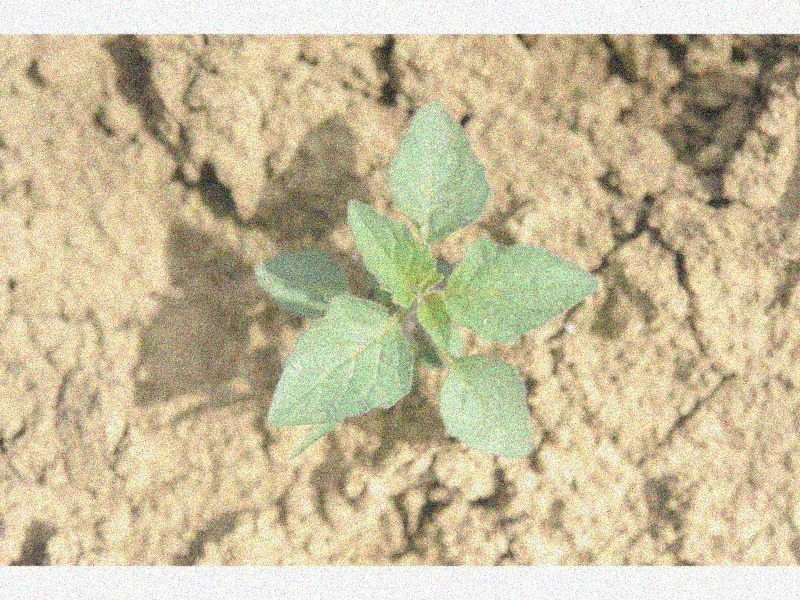nightshade: (253, 98, 602, 456)
